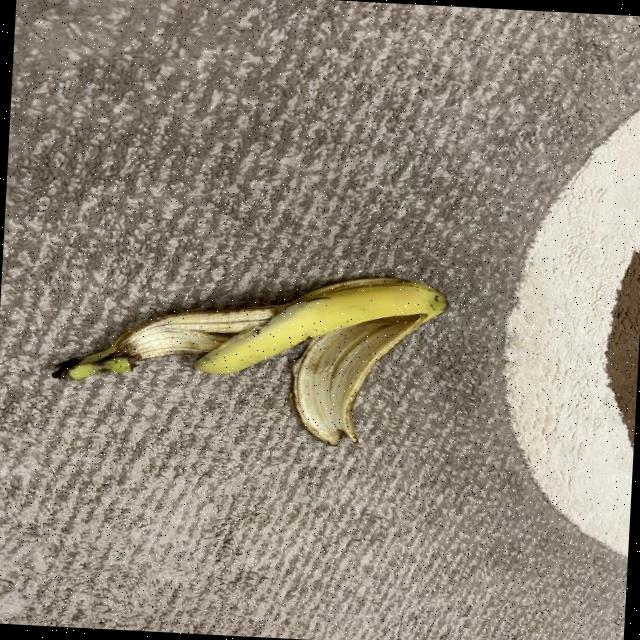banana-peel: (48, 258, 450, 452), (192, 266, 448, 388), (51, 292, 282, 392)
